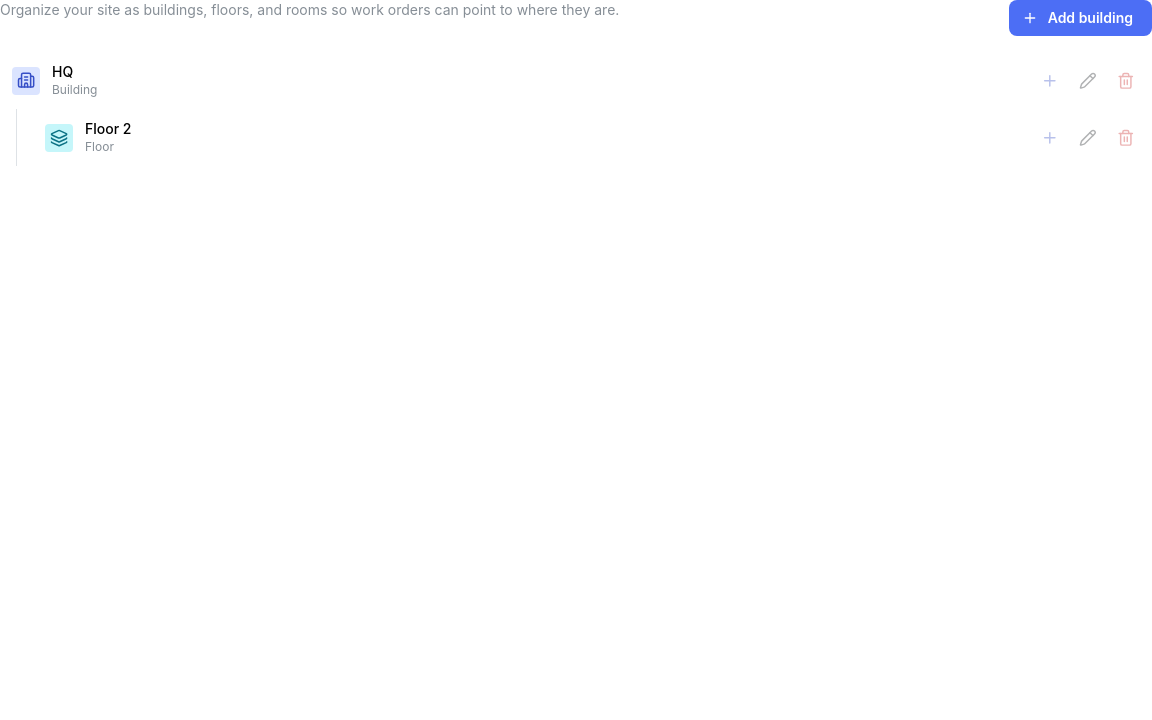
LocationsAdmin › shows a friendly inline error when the server rejects a duplicate sibling name on rename
# Act — rename the floor onto a name that collides with a sibling.
Click the button named "Rename Floor 2". click: click(1088, 138)
box: [1074, 124, 1102, 152]
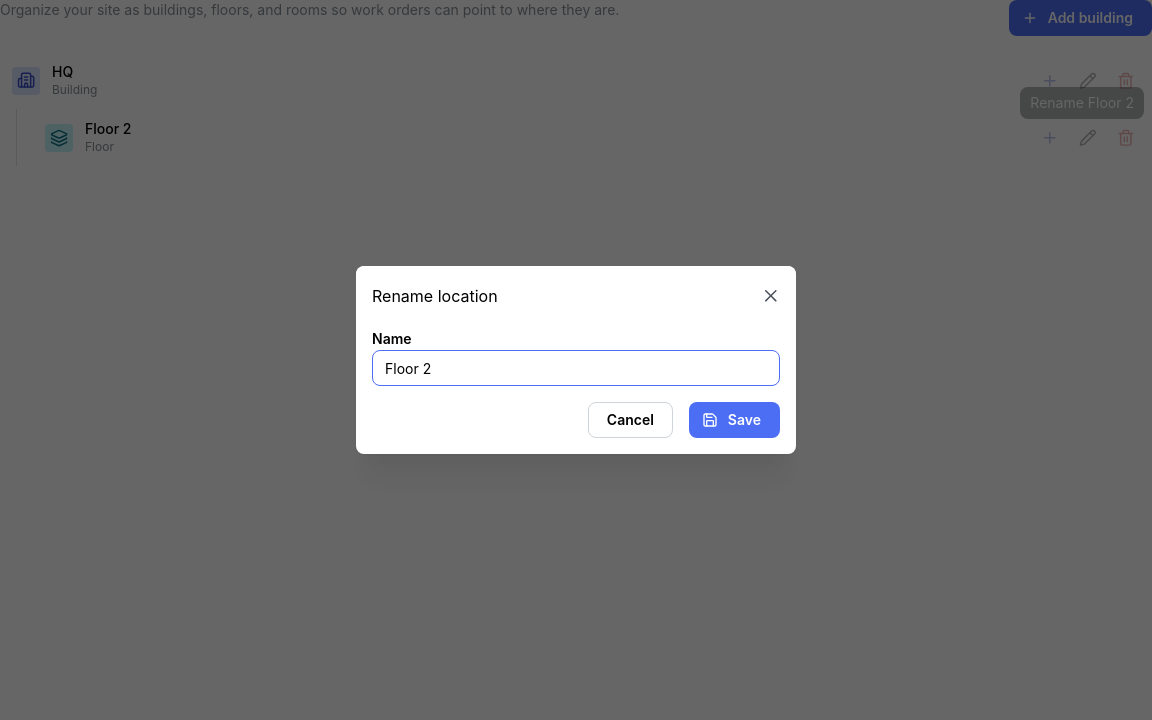
Replace the text in the field labelled "Name" with "Taken". click: (576, 368)
box: [372, 350, 780, 386]
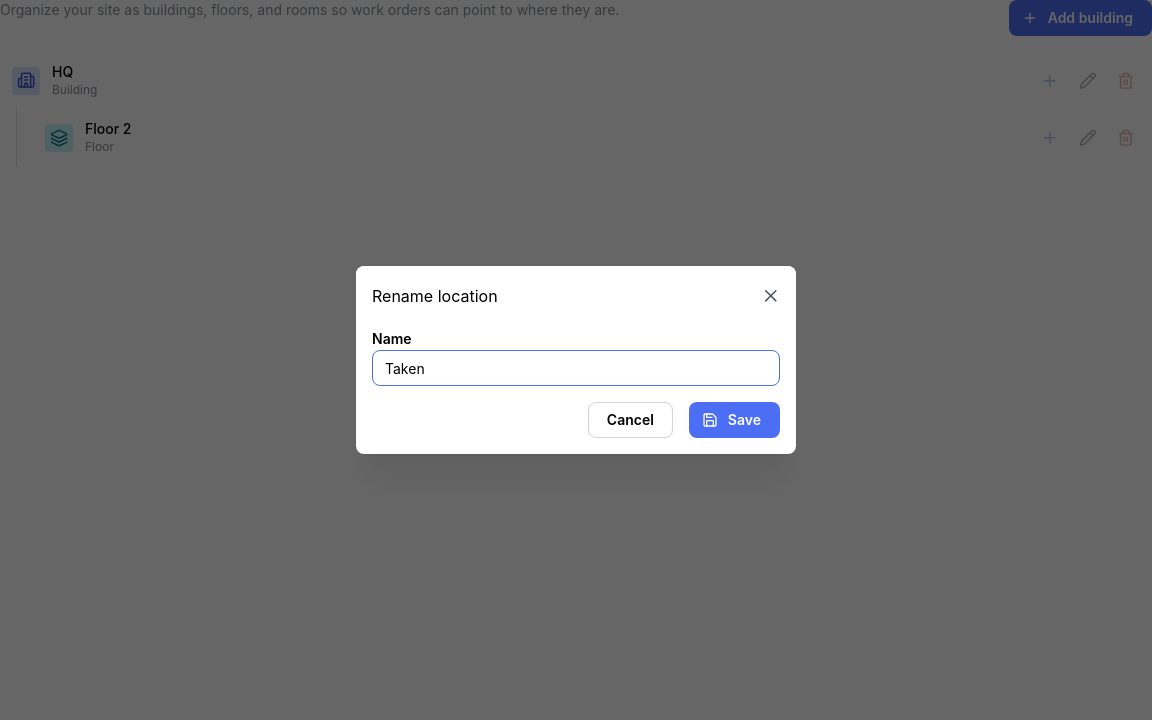
Click the button "Save". click: click(734, 420)
box: [689, 402, 780, 438]
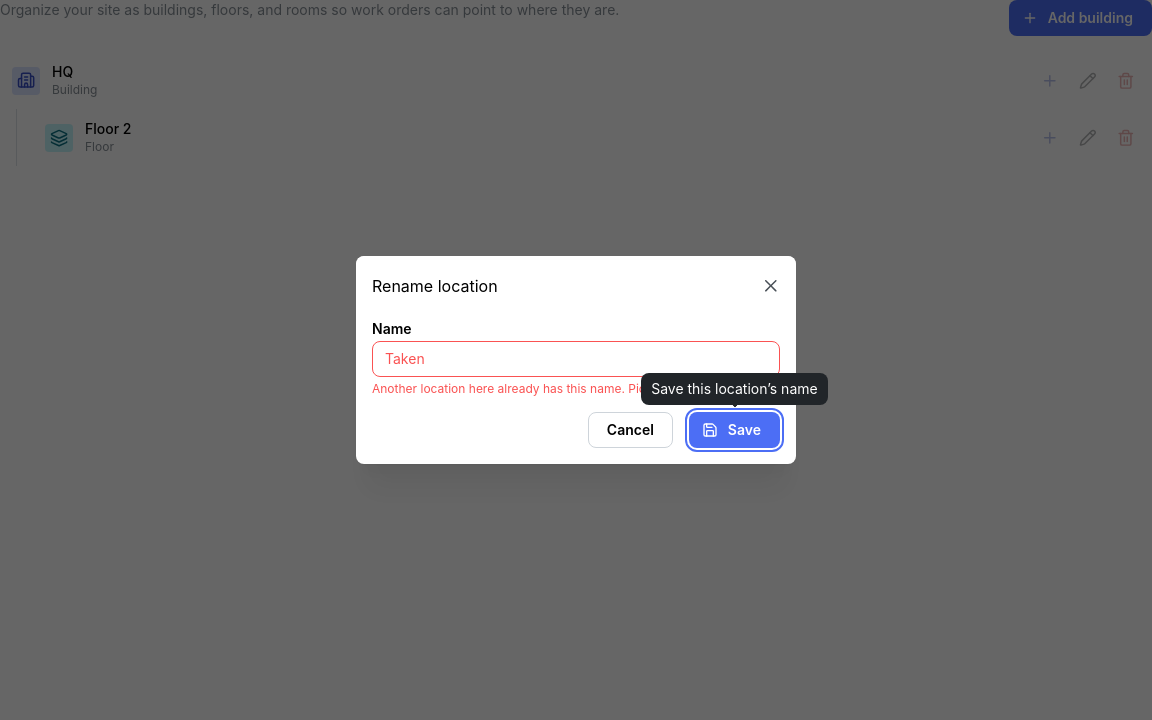
Expected: the dialog is shown, [356, 256, 796, 464]
Expected: the text "Another location here already has this name. Pick a different name." is shown, [372, 382, 780, 396]
